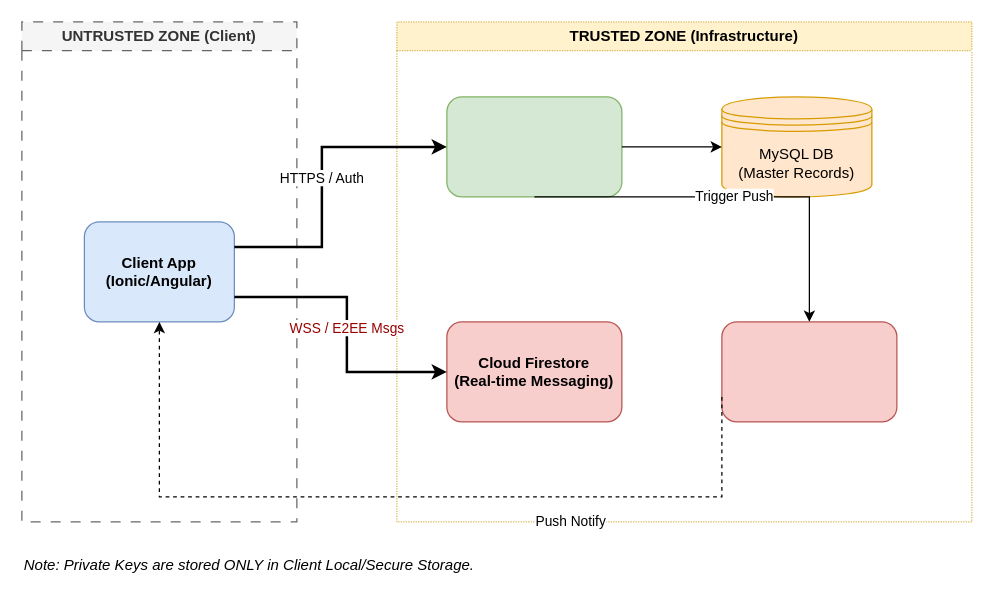
Some shapes in this 994 by 606 pixel diagram are drawn without their labels. The shapes that lost their labels are listed below. From the top down, each one's centre as x and y in pixels, then its label:
(534,146): PHP API (Backend Services)
(809,371): Firebase Cloud Messaging (FCM)
